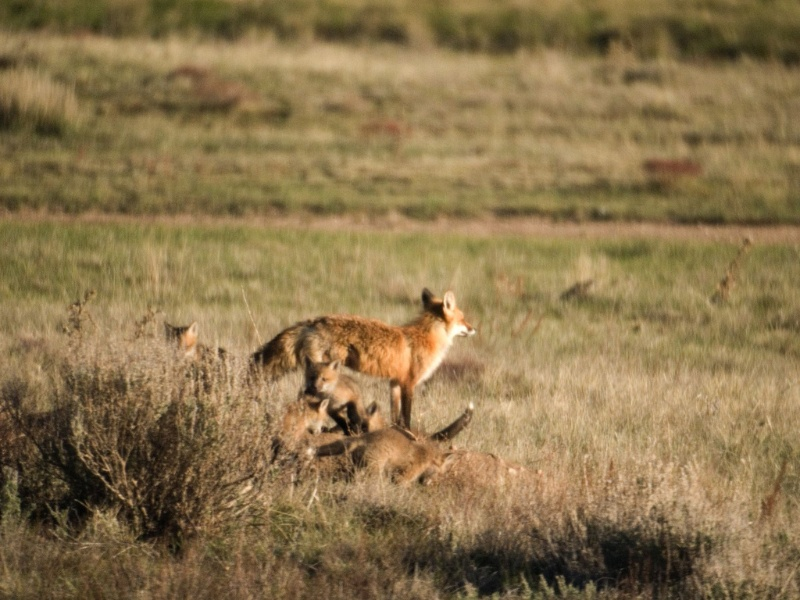fox: (244, 287, 487, 423), (329, 430, 467, 492), (291, 358, 382, 434)
